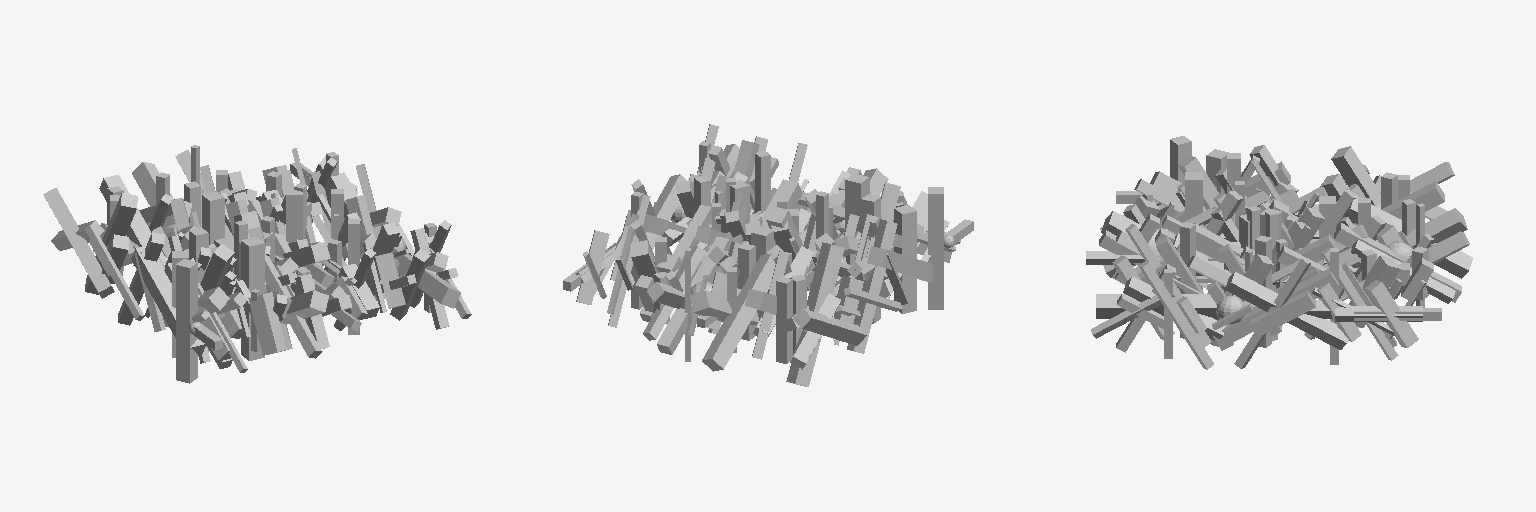
File: Boxes.obj
The picture shows the model from 3 angles: view 1: azimuth 30°, elevation 25°; view 2: azimuth 150°, elevation 25°; view 3: azimuth 270°, elevation 25°; orthographic projection.
Size of the model in its own units: 408 by 192 by 534.